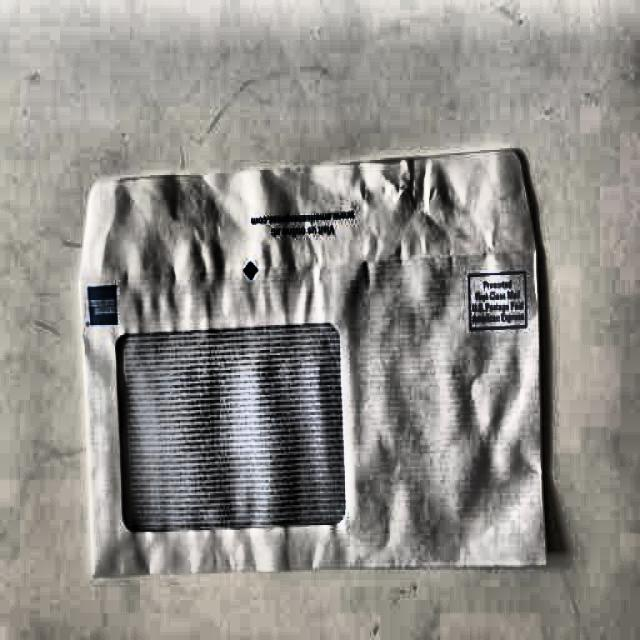paper: (73, 150, 558, 576)
